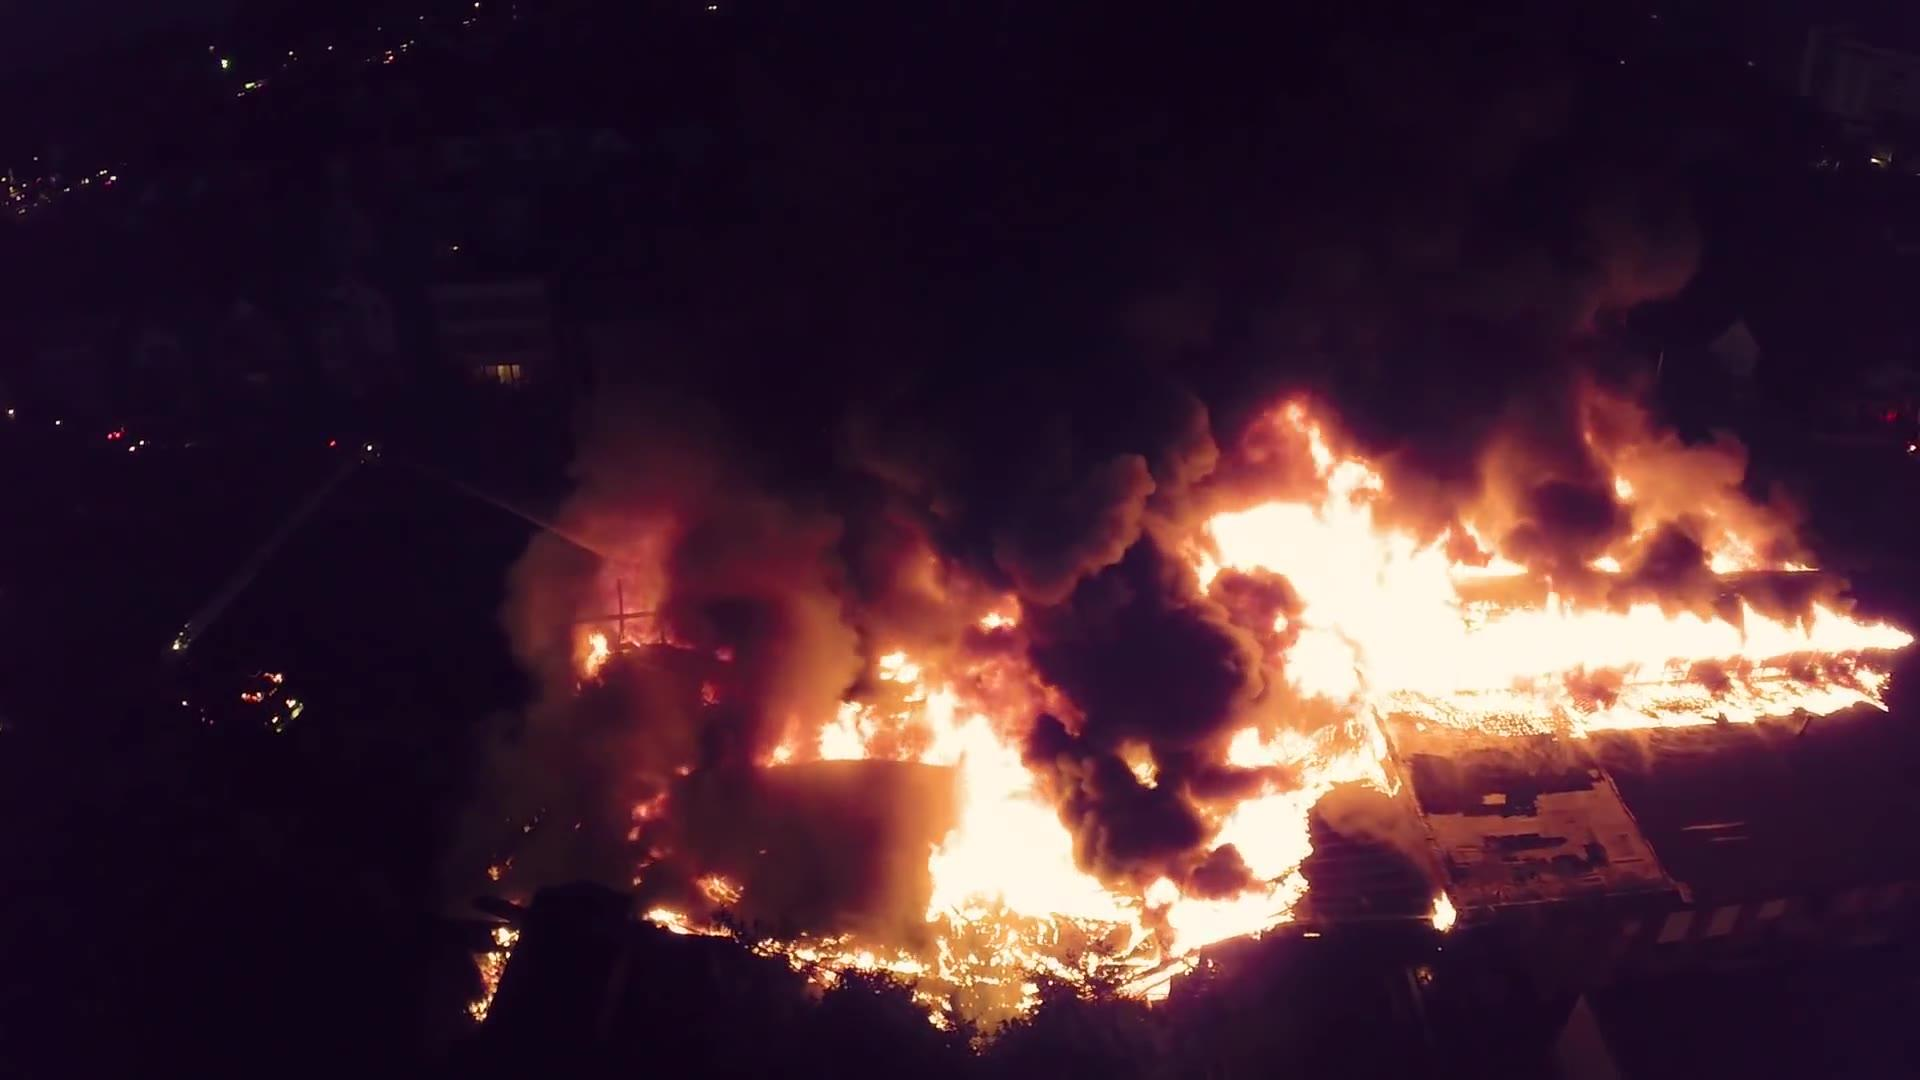fire: (1185, 477, 1920, 738), (756, 655, 1183, 1017), (1218, 705, 1364, 984)
smoke: (268, 50, 1531, 378)
